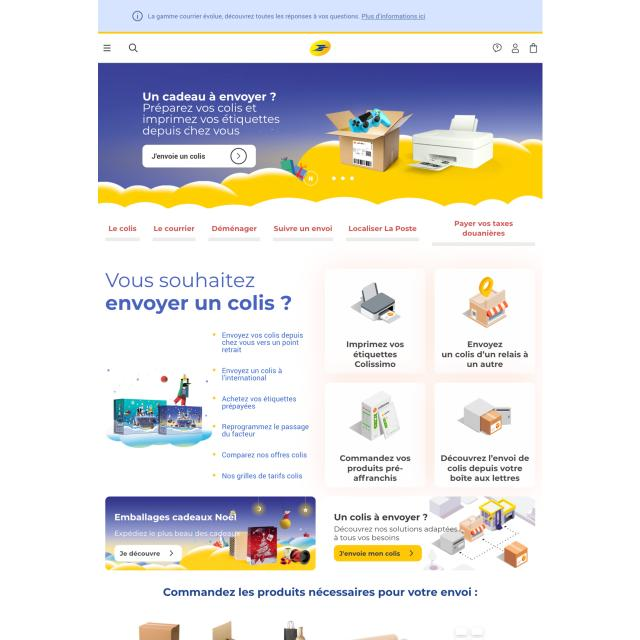CheckBox: (142, 144, 256, 168)
ImageView: (326, 495, 537, 573), (105, 496, 318, 571)
ProgressBar: (98, 0, 543, 32)
TextView: (210, 327, 312, 482)
bag: (98, 0, 542, 62)
card: (98, 63, 543, 212)
carousel: (230, 147, 246, 164), (127, 42, 141, 54), (100, 43, 114, 54), (492, 43, 505, 54), (511, 41, 520, 55), (528, 43, 538, 55)
data feed: (152, 150, 206, 164)
date picker: (304, 38, 335, 58)
decoration: (324, 266, 538, 488), (103, 218, 541, 246), (101, 42, 113, 54)
dropdown: (301, 170, 357, 189)
